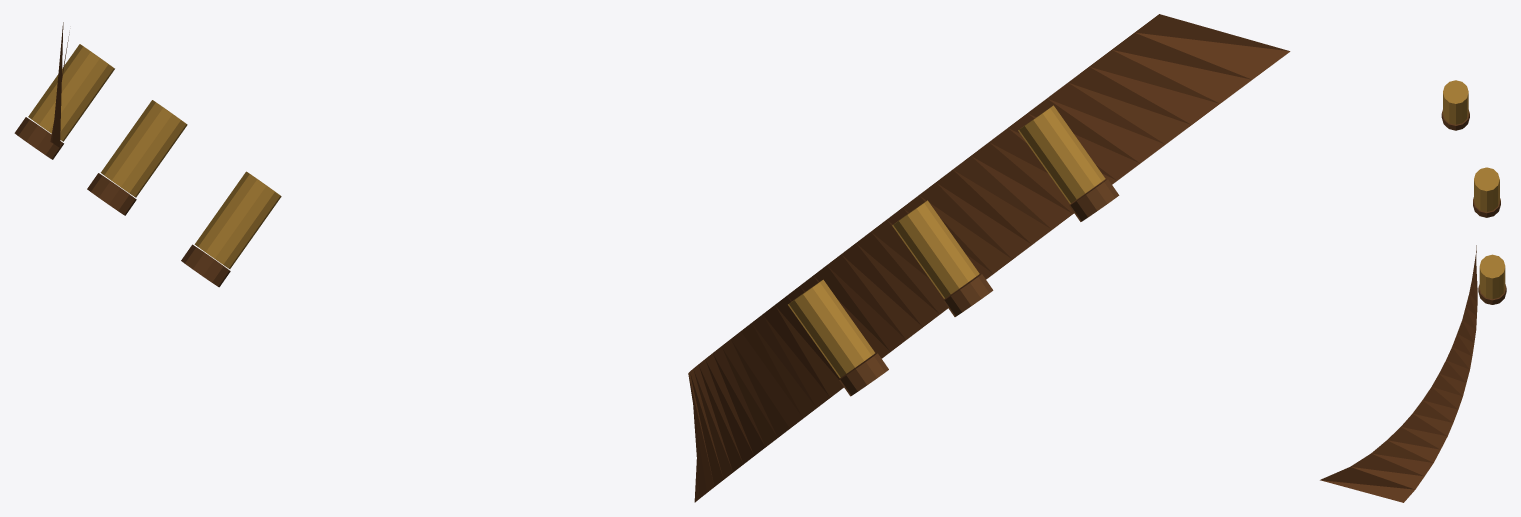
The model's file is Bandolier.glb.
3 renders of one model, left to right at view 1: azimuth 30°, elevation 25°; view 2: azimuth 150°, elevation 25°; view 3: azimuth 270°, elevation 25°, orthographic. The views are drawn at different scales.
Parts seen in each view (by area): view 1: geometry_0; view 2: geometry_0; view 3: geometry_0.
Part boxes in pixels (x1,y1,x2,y2): geometry_0: (14,22,281,287); geometry_0: (688,14,1290,502); geometry_0: (1320,80,1506,502).
Size of the model in its own units: 0.7795 by 0.7552 by 0.3605.
